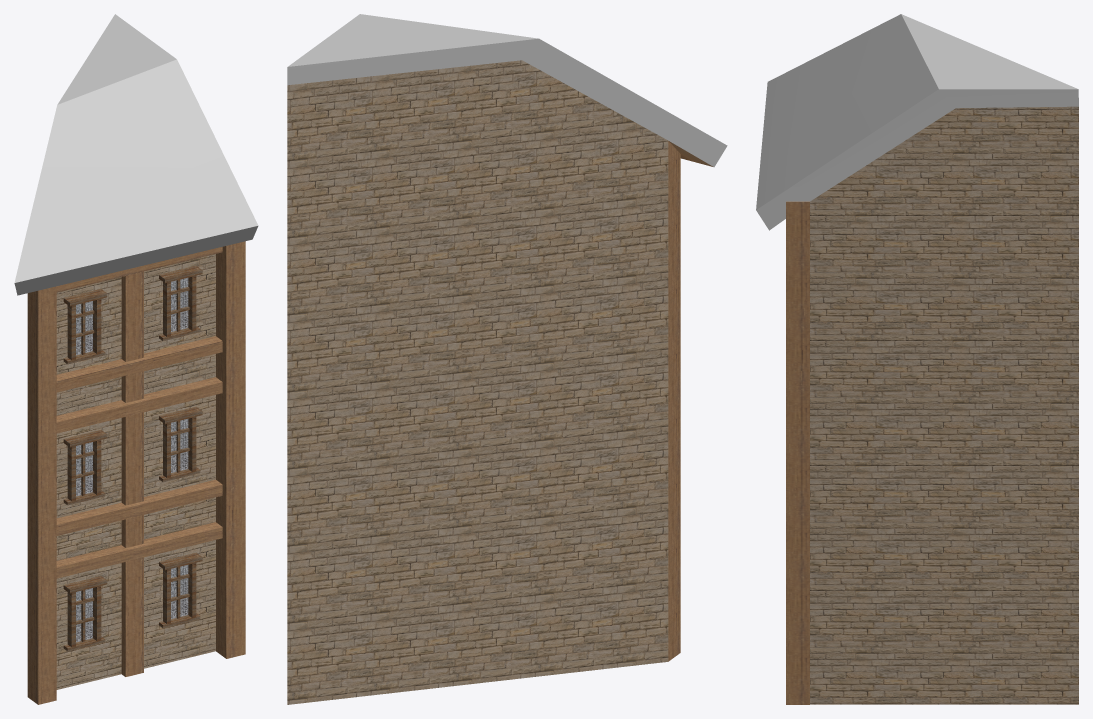
Rendered from Towbhouse_tilted.fbx.
The picture shows the model from 3 angles, left to right: view 1: azimuth 30°, elevation 25°; view 2: azimuth 150°, elevation 25°; view 3: azimuth 270°, elevation 25°; orthographic projection. The views are drawn at different scales.
Visible parts, largest first — view 1: tiltedHouse; view 2: tiltedHouse; view 3: tiltedHouse.
Boxes of the visible parts, x1=… form: tiltedHouse: x1=14, y1=14, x2=258, y2=704; tiltedHouse: x1=287, y1=14, x2=727, y2=704; tiltedHouse: x1=756, y1=14, x2=1078, y2=704.
Size of the model in its own units: 34.75 by 75.7 by 36.
